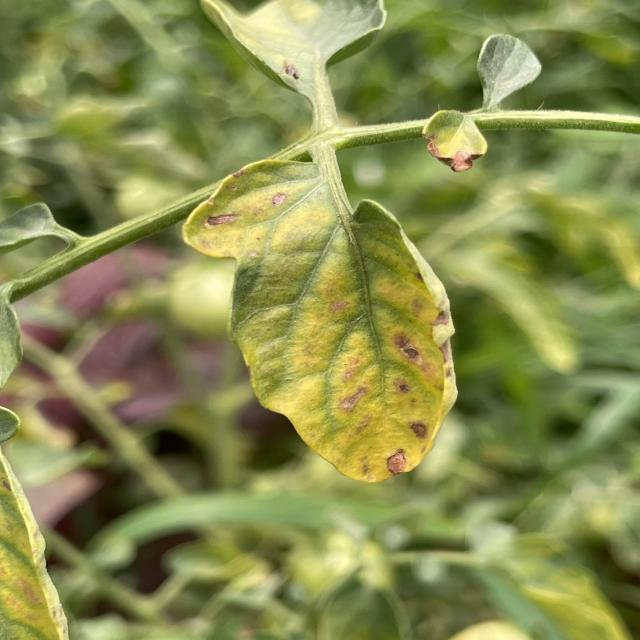tomato_early blight: (182, 145, 456, 482), (195, 0, 388, 105), (5, 430, 70, 640), (413, 104, 501, 168)
